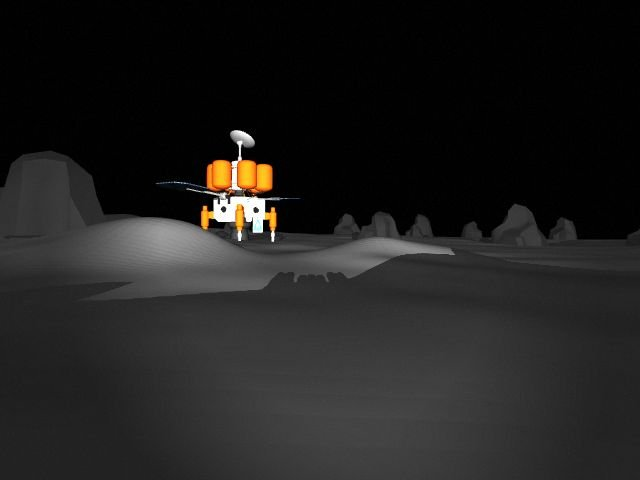homebase: (153, 127, 317, 247)
